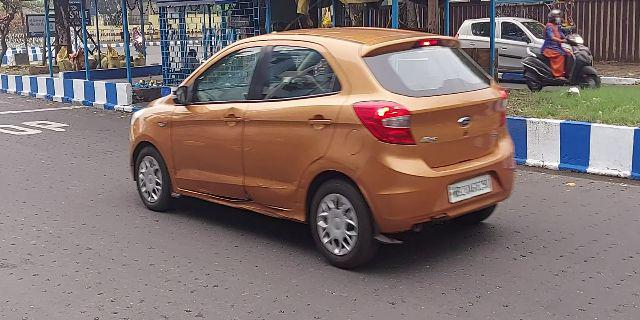Car: (125, 27, 523, 266)
